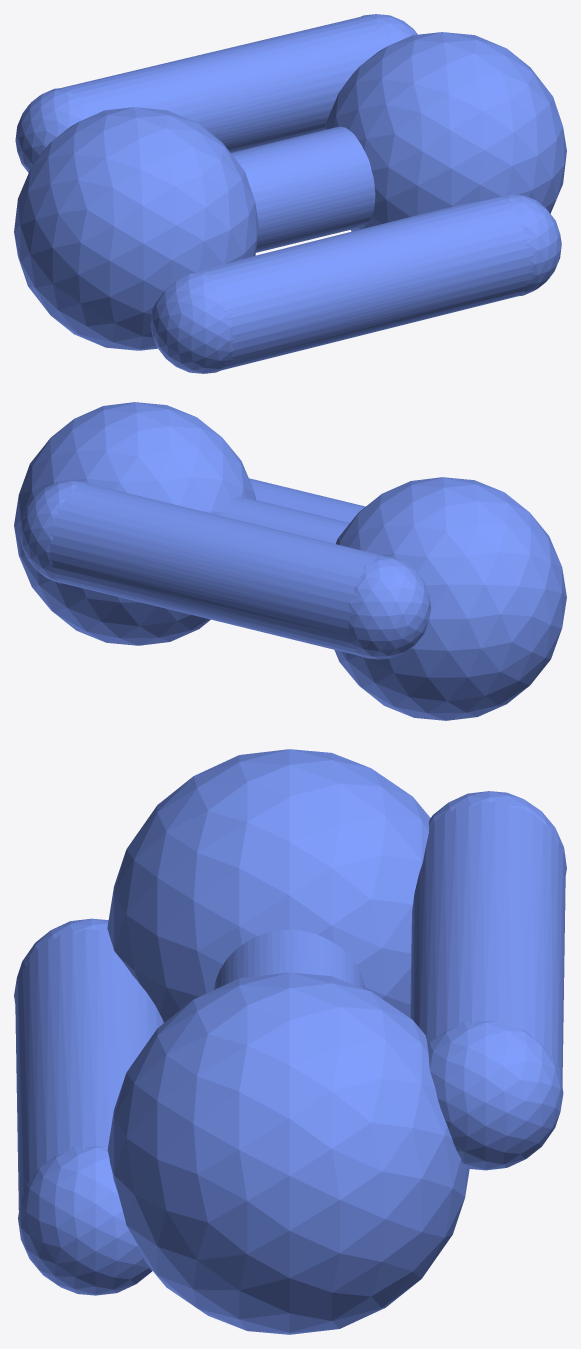
3 renders of one model, top to bottom at view 1: azimuth 30°, elevation 25°; view 2: azimuth 150°, elevation 25°; view 3: azimuth 270°, elevation 25°, orthographic. The views are drawn at different scales.
Visible parts, largest first — view 1: Shape_primitive_primitive, Shape_primitive_1_primitive, Shape_primitive_8_primitive, Shape_primitive_2_primitive, Shape_primitive_5_primitive, Shape_primitive_9_primitive, Shape_primitive_3_primitive, Shape_primitive_10_primitive, Shape_primitive_4_primitive; view 2: Shape_primitive_primitive, Shape_primitive_2_primitive, Shape_primitive_1_primitive, Shape_primitive_3_primitive, Shape_primitive_5_primitive, Shape_primitive_4_primitive, Shape_primitive_8_primitive; view 3: Shape_primitive_1_primitive, Shape_primitive_primitive, Shape_primitive_2_primitive, Shape_primitive_8_primitive, Shape_primitive_4_primitive, Shape_primitive_10_primitive, Shape_primitive_5_primitive, Shape_primitive_3_primitive, Shape_primitive_9_primitive.
Part boxes in pixels (x1,y1,x2,y2): Shape_primitive_primitive: (14, 107, 258, 350); Shape_primitive_1_primitive: (325, 32, 566, 231); Shape_primitive_8_primitive: (202, 197, 534, 370); Shape_primitive_2_primitive: (62, 15, 390, 152); Shape_primitive_5_primitive: (231, 126, 375, 252); Shape_primitive_9_primitive: (150, 271, 233, 373); Shape_primitive_3_primitive: (15, 87, 88, 172); Shape_primitive_10_primitive: (501, 194, 561, 295); Shape_primitive_4_primitive: (360, 14, 417, 44); Shape_primitive_primitive: (334, 477, 566, 720); Shape_primitive_2_primitive: (49, 482, 385, 655); Shape_primitive_1_primitive: (14, 402, 255, 645); Shape_primitive_3_primitive: (348, 556, 430, 659); Shape_primitive_5_primitive: (219, 497, 349, 543); Shape_primitive_4_primitive: (20, 480, 88, 583); Shape_primitive_8_primitive: (249, 478, 365, 522); Shape_primitive_1_primitive: (107, 972, 469, 1334); Shape_primitive_primitive: (107, 749, 430, 1022); Shape_primitive_2_primitive: (410, 801, 565, 1085); Shape_primitive_8_primitive: (15, 928, 163, 1210); Shape_primitive_4_primitive: (427, 1020, 563, 1170); Shape_primitive_10_primitive: (18, 1146, 152, 1295); Shape_primitive_5_primitive: (214, 930, 365, 989); Shape_primitive_3_primitive: (429, 791, 566, 875); Shape_primitive_9_primitive: (14, 918, 108, 1003).
Bounding box in the file's own units: 17.48 × 7.14 × 10.81.
